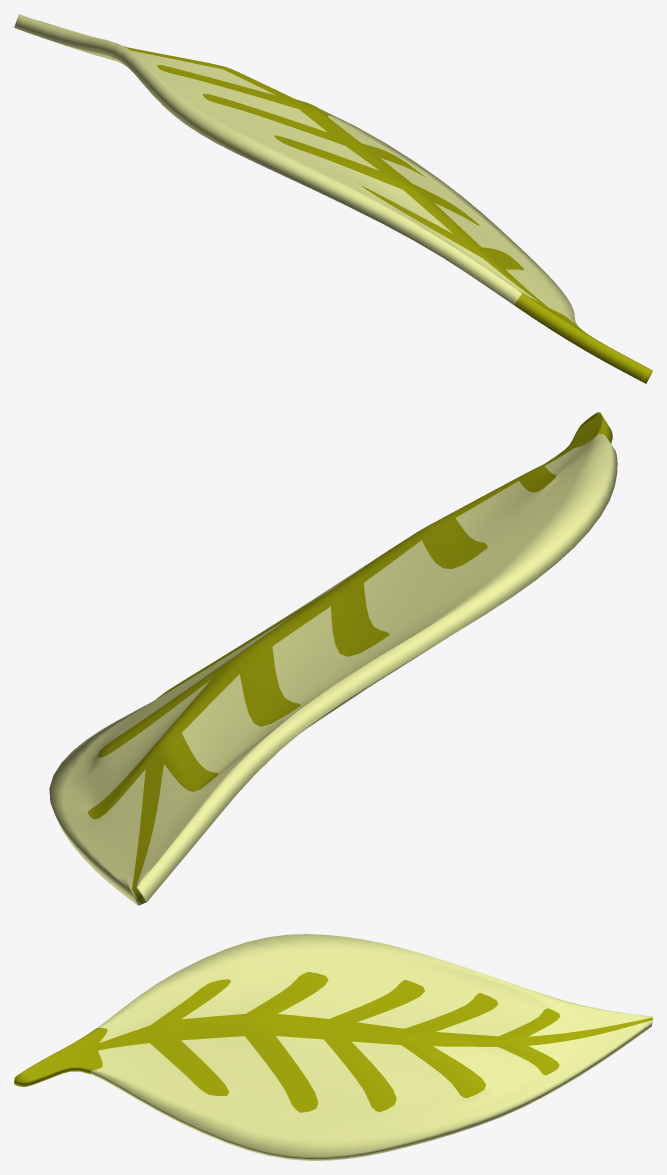
File: daun.fbx
The picture shows the model from 3 angles, top to bottom: view 1: azimuth 30°, elevation 25°; view 2: azimuth 150°, elevation 25°; view 3: azimuth 270°, elevation 25°; orthographic projection. The views are drawn at different scales.
Visible parts, largest first — view 1: Plane; view 2: Plane; view 3: Plane.
Part boxes in pixels (<box>): Plane: <box>14,14,652,383</box>; Plane: <box>49,412,617,905</box>; Plane: <box>14,934,652,1160</box>.
Bounding box in the file's own units: 249 × 158 × 684.
